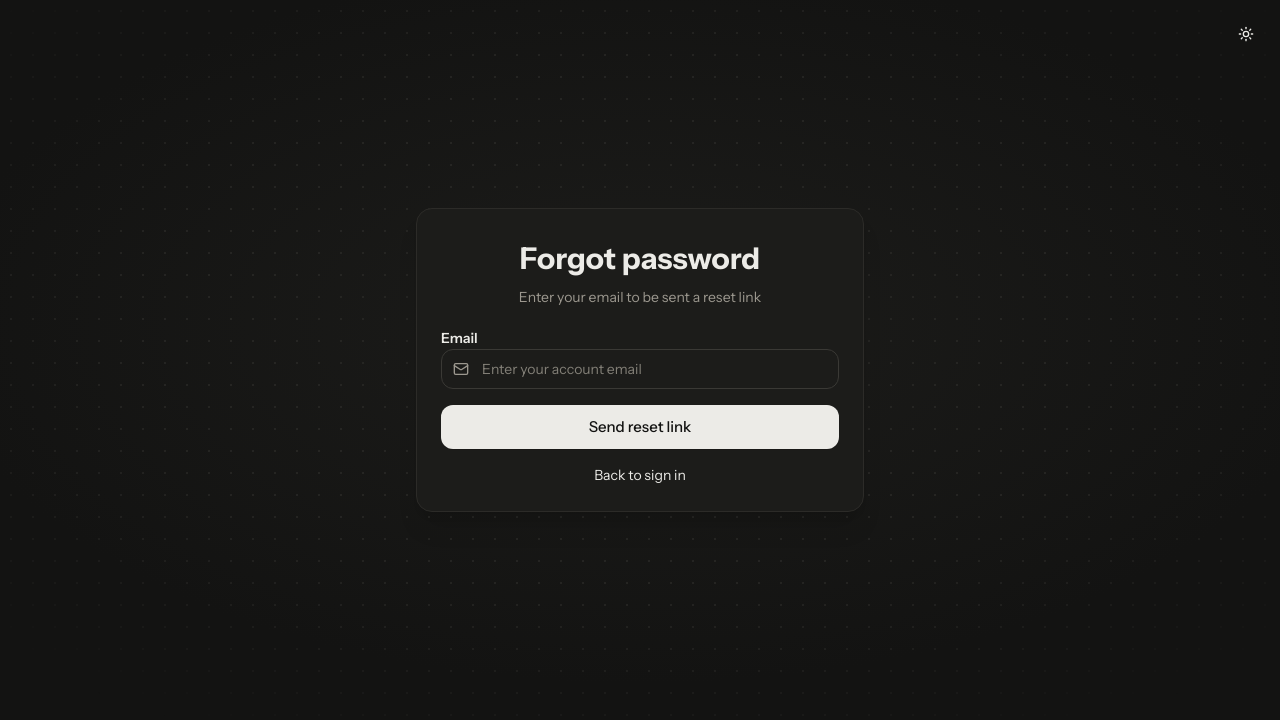
Test: ForgotPasswordPage › refuses to submit an empty address
Click the button "Send reset link" at (640, 427), box [441,405,839,449]
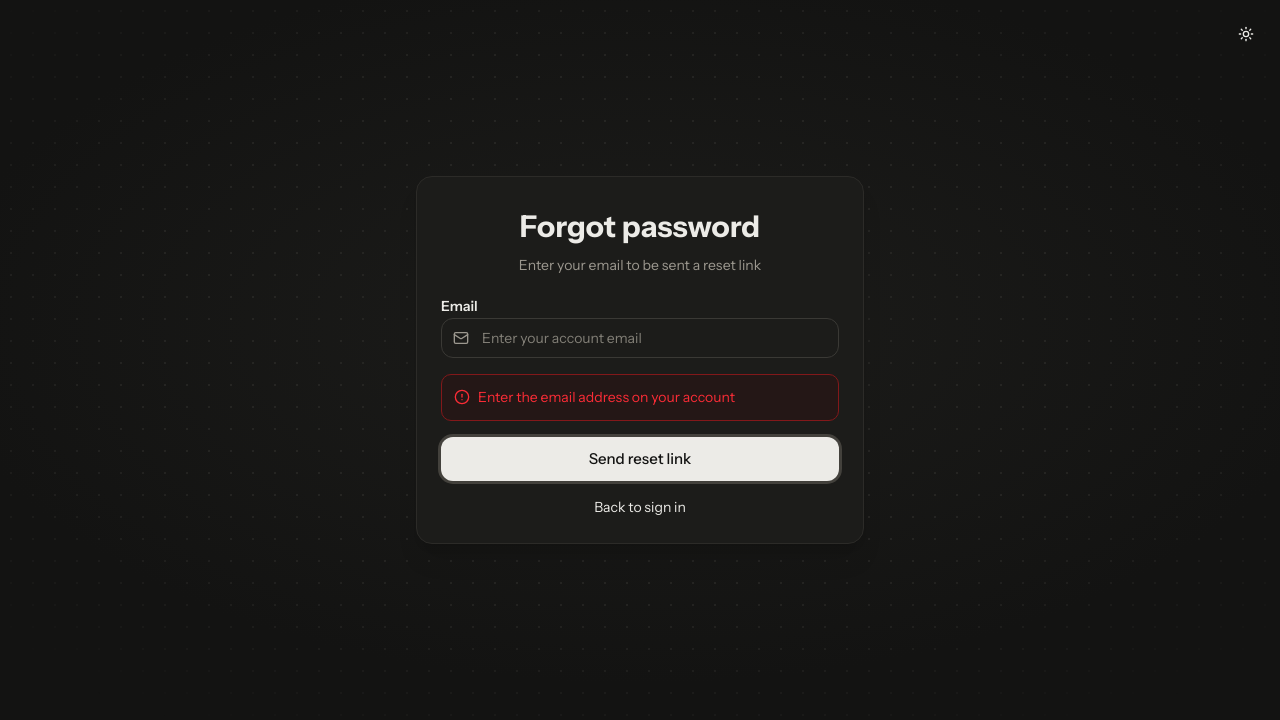
Expected: the text "Enter the email address on your account" is shown, [478,386,735,408]
